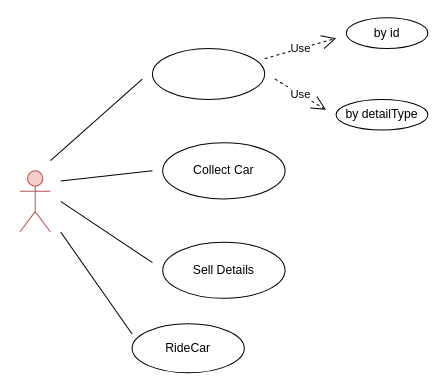
Image size: 446x391. Some labels were removed from this diagram. The centre of each missing label's shape, as x and y in pixels:
"Find Details" belongs at (x=208, y=73).
"Player" belongs at (x=34, y=201).
